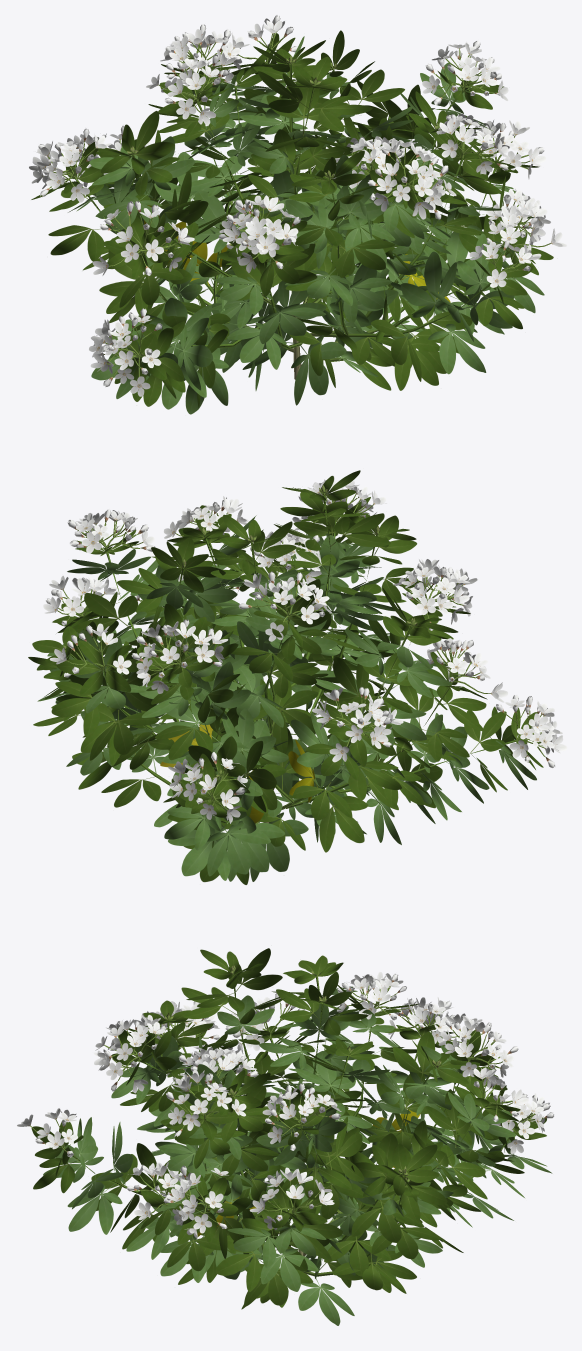
File: arbuste-oranger-fleurs.glb
The picture shows the model from 3 angles, top to bottom: view 1: azimuth 30°, elevation 25°; view 2: azimuth 150°, elevation 25°; view 3: azimuth 270°, elevation 25°; orthographic projection. The views are drawn at different scales.
Visible parts, largest first — view 1: Choisya_ternata_HD_Choisya leaf 01_0, Choisya_ternata_HD_Choisya leaf 02 back_0, Choisya_ternata_HD_Choisya flower 01_0, Choisya_ternata_HD_Choisya bud 01_0, Choisya_ternata_HD_Choisya flower stalk_0, Choisya_ternata_HD_Choisya twig_0, Choisya_ternata_HD_Choisya bark_0, Choisya_ternata_HD_Choisya leaf 02 dry 1 back_0; view 2: Choisya_ternata_HD_Choisya leaf 01_0, Choisya_ternata_HD_Choisya leaf 02 back_0, Choisya_ternata_HD_Choisya flower 01_0, Choisya_ternata_HD_Choisya bud 01_0, Choisya_ternata_HD_Choisya flower stalk_0, Choisya_ternata_HD_Choisya twig_0, Choisya_ternata_HD_Choisya bark_0, Choisya_ternata_HD_Choisya leaf 02 dry 1 back_0; view 3: Choisya_ternata_HD_Choisya leaf 01_0, Choisya_ternata_HD_Choisya leaf 02 back_0, Choisya_ternata_HD_Choisya flower 01_0, Choisya_ternata_HD_Choisya bud 01_0, Choisya_ternata_HD_Choisya flower stalk_0, Choisya_ternata_HD_Choisya twig_0.
Boxes of the visible parts, box(x1,y1,x2,y2) form: Choisya_ternata_HD_Choisya leaf 01_0: box(31, 30, 553, 407); Choisya_ternata_HD_Choisya leaf 02 back_0: box(68, 36, 544, 414); Choisya_ternata_HD_Choisya flower 01_0: box(29, 18, 566, 396); Choisya_ternata_HD_Choisya bud 01_0: box(38, 15, 544, 386); Choisya_ternata_HD_Choisya flower stalk_0: box(43, 32, 550, 385); Choisya_ternata_HD_Choisya twig_0: box(76, 65, 508, 358); Choisya_ternata_HD_Choisya bark_0: box(165, 207, 404, 379); Choisya_ternata_HD_Choisya leaf 02 dry 1 back_0: box(144, 205, 450, 302); Choisya_ternata_HD_Choisya leaf 01_0: box(28, 470, 543, 884); Choisya_ternata_HD_Choisya leaf 02 back_0: box(37, 515, 536, 881); Choisya_ternata_HD_Choisya flower 01_0: box(43, 479, 567, 823); Choisya_ternata_HD_Choisya bud 01_0: box(45, 496, 555, 804); Choisya_ternata_HD_Choisya flower stalk_0: box(57, 489, 544, 810); Choisya_ternata_HD_Choisya twig_0: box(69, 495, 516, 823); Choisya_ternata_HD_Choisya bark_0: box(152, 635, 368, 829); Choisya_ternata_HD_Choisya leaf 02 dry 1 back_0: box(233, 672, 317, 823); Choisya_ternata_HD_Choisya leaf 01_0: box(31, 948, 546, 1309); Choisya_ternata_HD_Choisya leaf 02 back_0: box(43, 986, 552, 1325); Choisya_ternata_HD_Choisya flower 01_0: box(17, 972, 549, 1239); Choisya_ternata_HD_Choisya bud 01_0: box(35, 973, 553, 1228); Choisya_ternata_HD_Choisya flower stalk_0: box(30, 985, 542, 1222); Choisya_ternata_HD_Choisya twig_0: box(64, 974, 509, 1256).
Bounding box in the file's own units: 0.8002 × 0.5693 × 0.8385.
11 materials, 11 textured.
